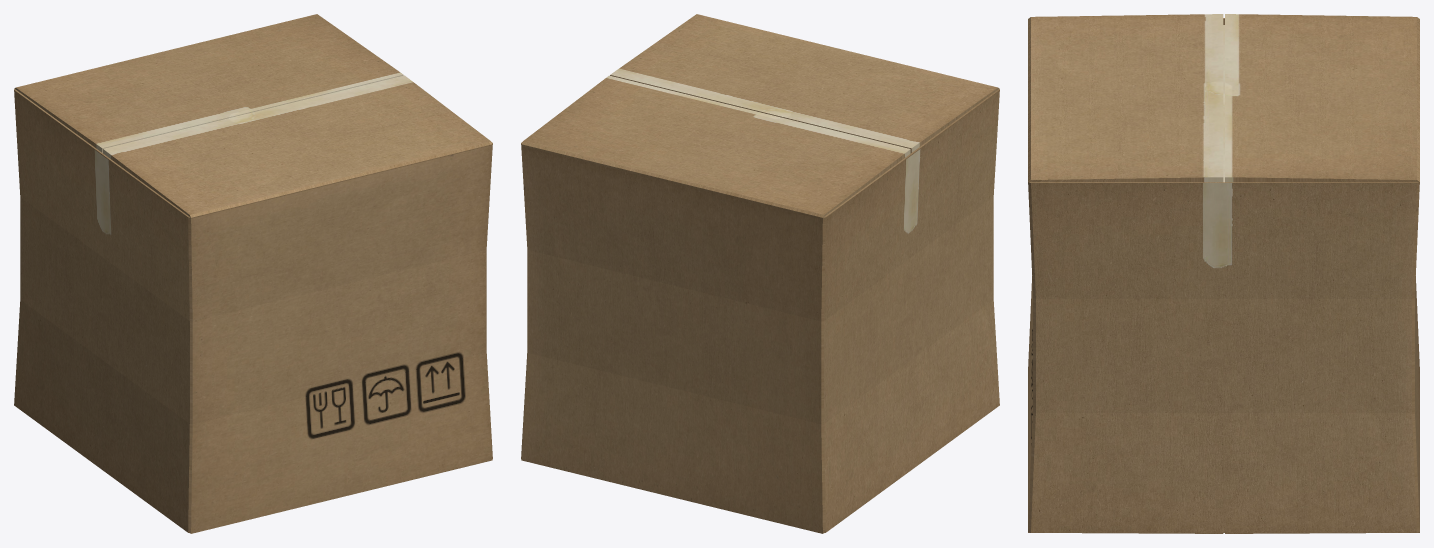
The model's file is CarboardBox.glb.
3 views of the same model, side by side, from view 1: azimuth 30°, elevation 25°; view 2: azimuth 150°, elevation 25°; view 3: azimuth 270°, elevation 25° (orthographic). The views are drawn at different scales.
Parts seen in each view (by area): view 1: Cube; view 2: Cube; view 3: Cube.
Part boxes in pixels (x1,y1,x2,y2): Cube: (14,14,492,533); Cube: (521,14,999,533); Cube: (1028,14,1419,533).
Size of the model in its own units: 1.71 by 1.72 by 1.71.
Materials: 4 (4 with a texture image).
